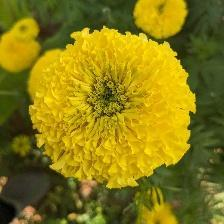marigold: (31, 27, 200, 192), (1, 18, 42, 76), (134, 1, 191, 41), (134, 191, 181, 224)
